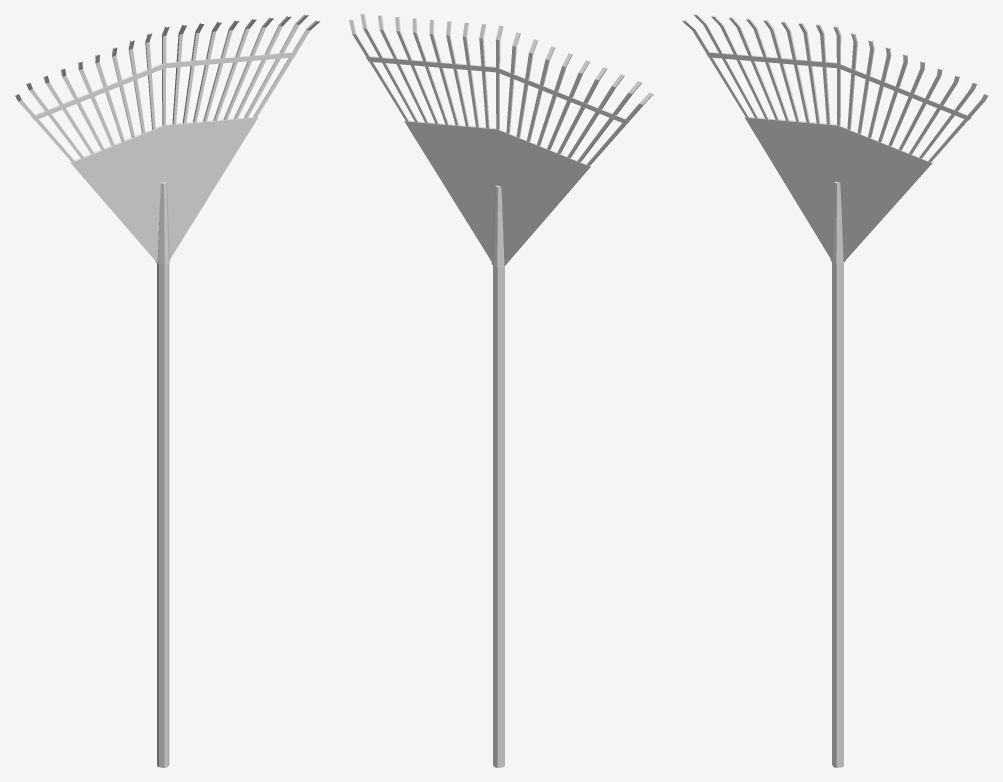
The model's file is Tool_Rake_02.glb.
3 renders of one model, left to right at view 1: azimuth 30°, elevation 25°; view 2: azimuth 150°, elevation 25°; view 3: azimuth 330°, elevation 25°, orthographic.
Parts seen in each view (by area): view 1: Tool_Rake_02; view 2: Tool_Rake_02; view 3: Tool_Rake_02.
Part boxes in pixels (x1,y1,x2,y2): Tool_Rake_02: [14, 14, 320, 767]; Tool_Rake_02: [349, 14, 653, 767]; Tool_Rake_02: [682, 14, 988, 767].
Size of the model in its own units: 0.6441 by 1.49 by 0.0277.
1 material, 1 textured.
